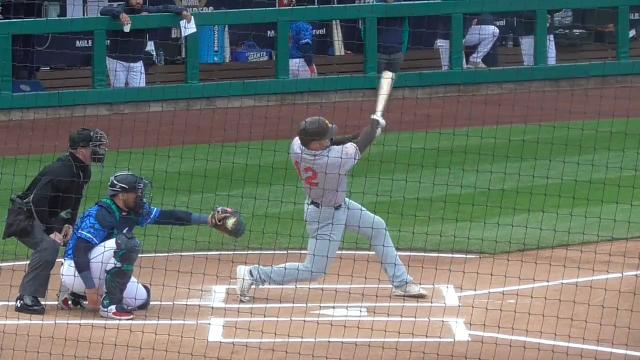bat: (375, 70, 393, 116)
